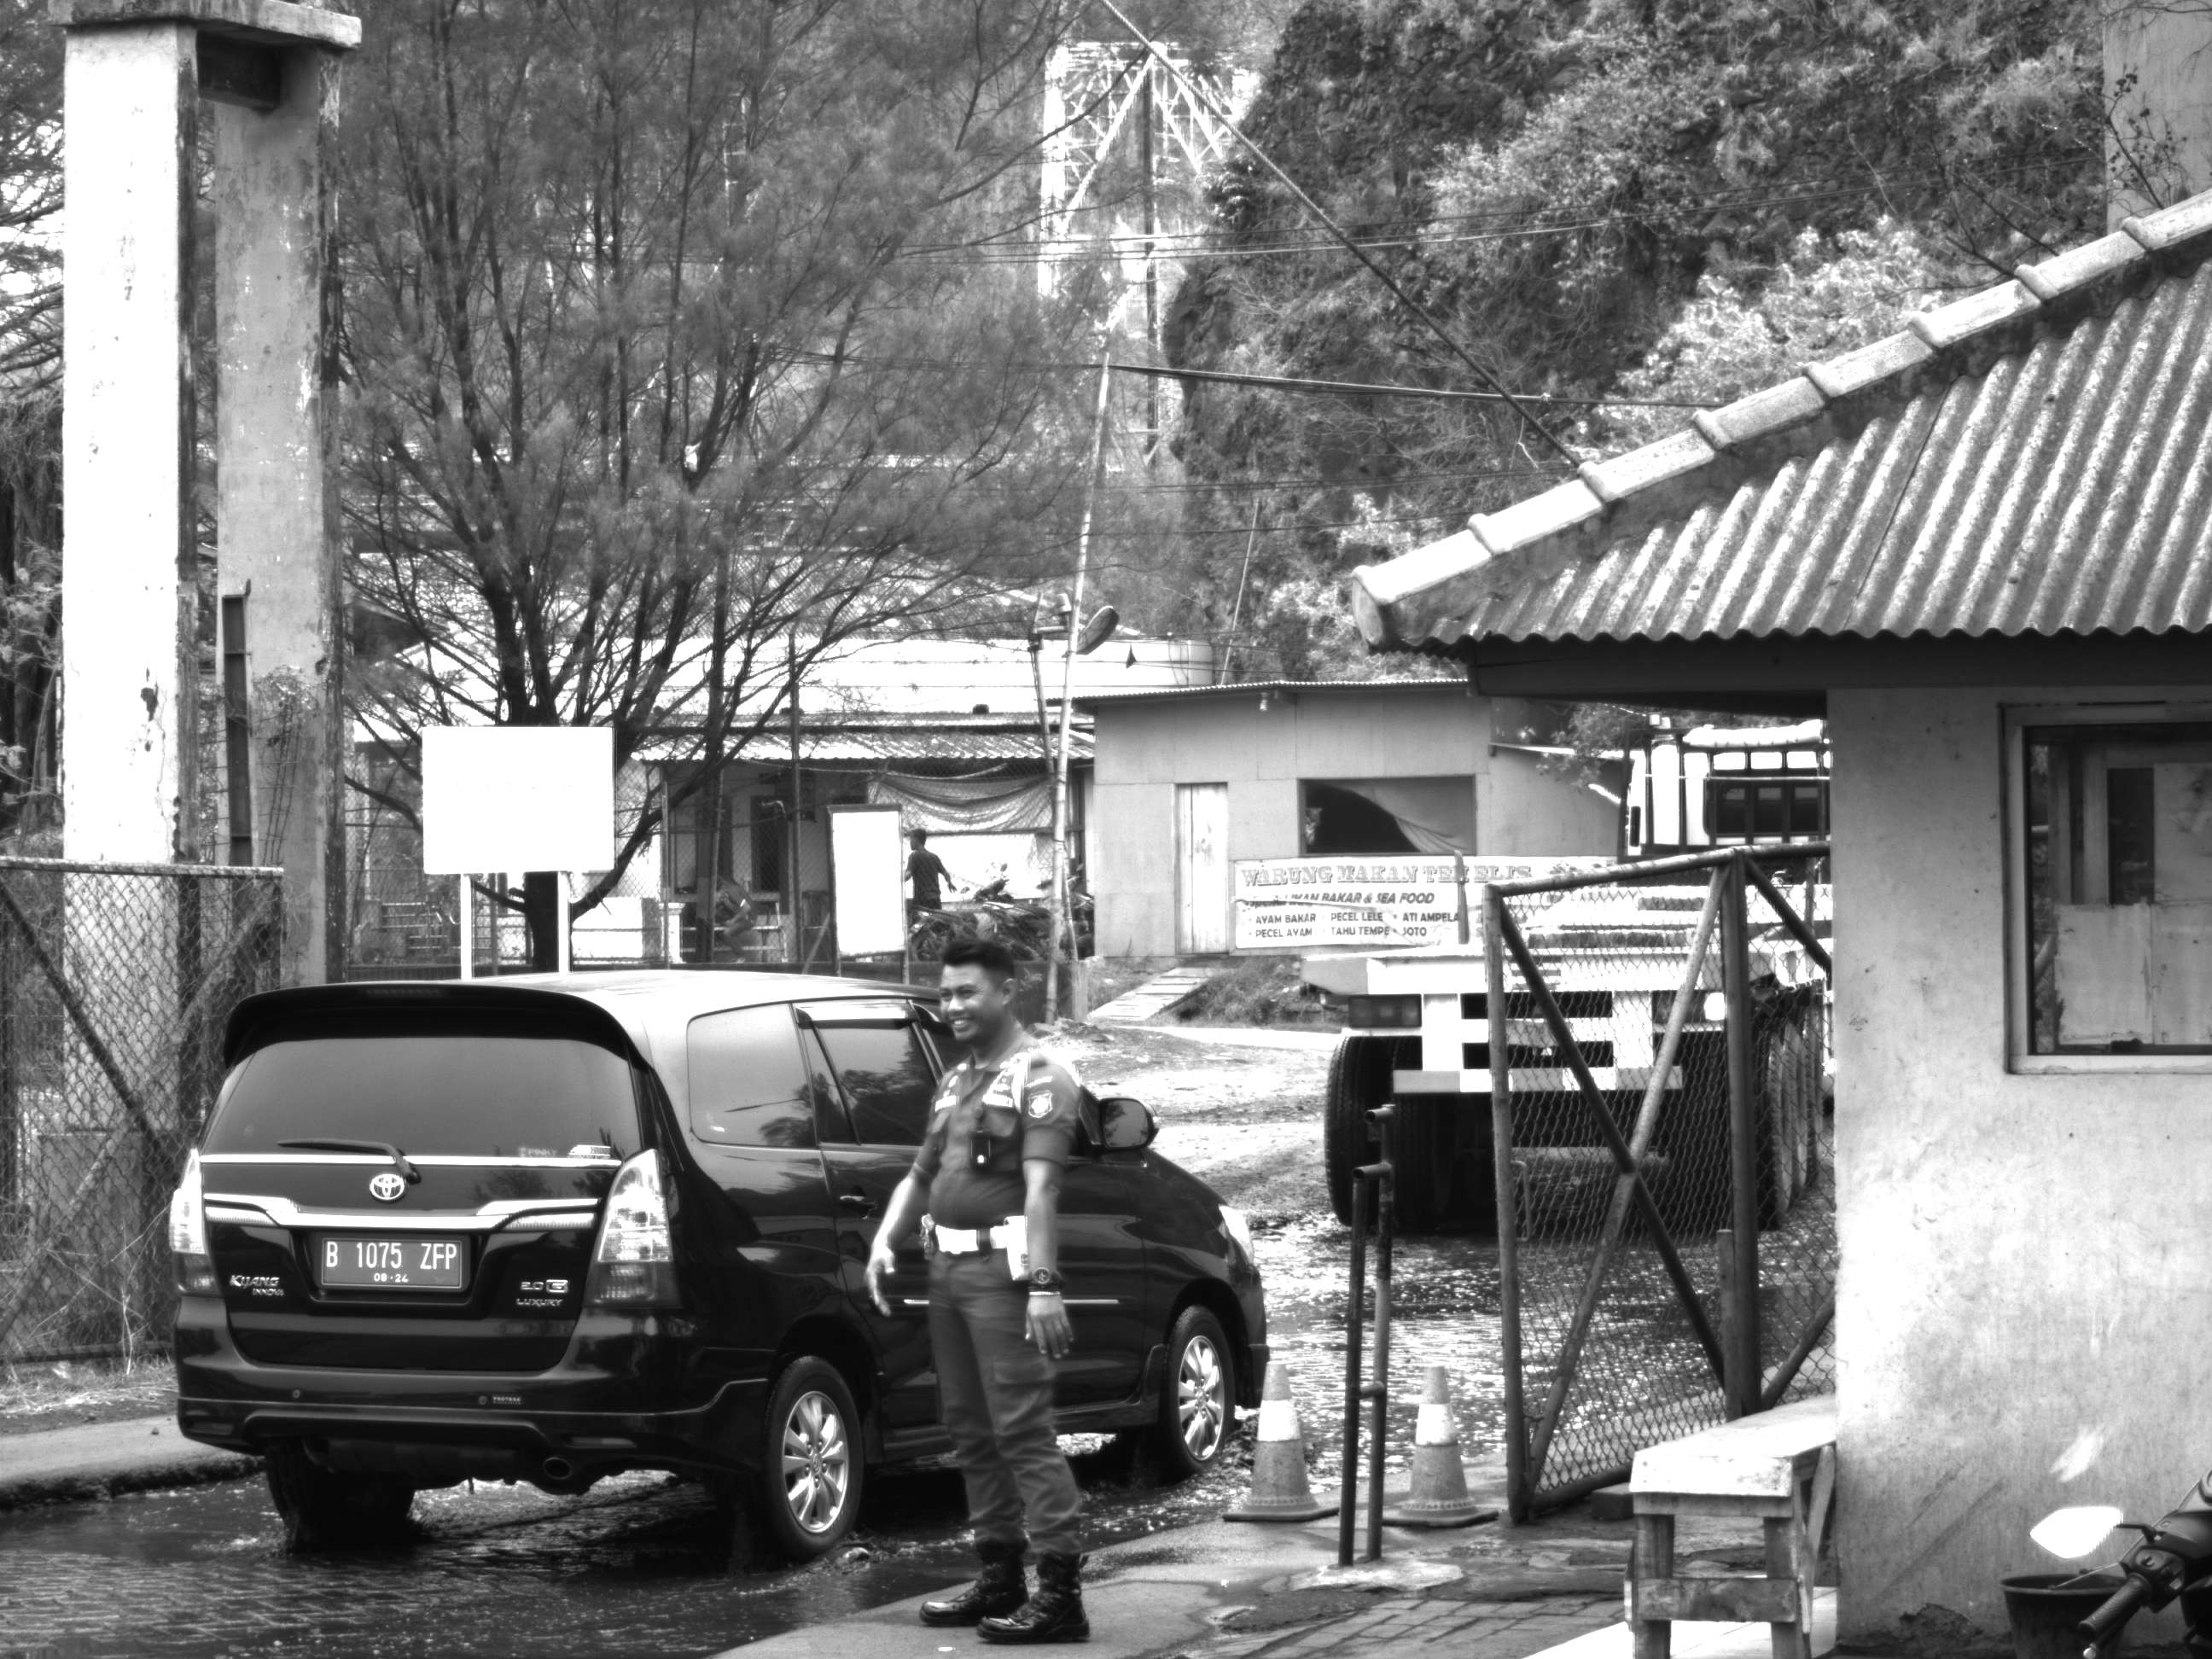day_small_rear: (160, 971, 907, 1555)
plate: (315, 1231, 475, 1297)
